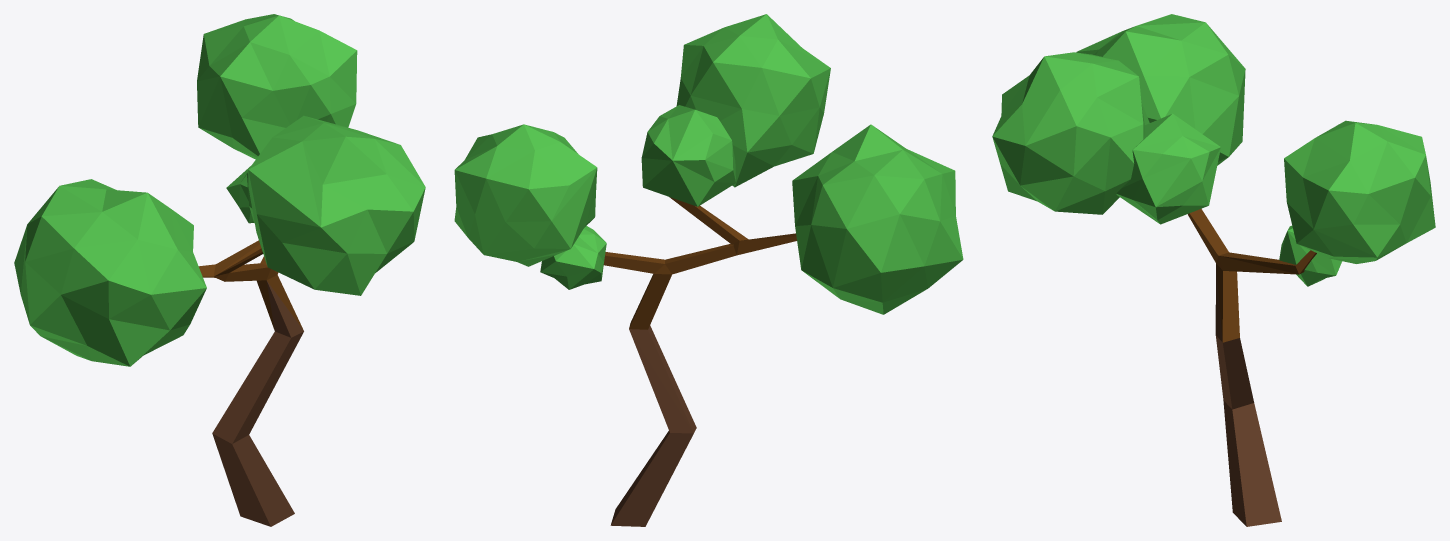
The model's file is jungleTreePack.fbx.
3 renders of one model, left to right at view 1: azimuth 30°, elevation 25°; view 2: azimuth 150°, elevation 25°; view 3: azimuth 270°, elevation 25°, orthographic. The views are drawn at different scales.
Visible parts, largest first — view 1: дерева.001; view 2: дерева.001; view 3: дерева.001.
Boxes of the visible parts, x1,y1,x2,y2 form: дерева.001: (14,14,425,526); дерева.001: (454,14,963,526); дерева.001: (992,14,1435,526).
Bounding box in the file's own units: 101 × 107 × 96.2.
